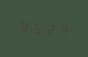eight: (18, 17, 29, 35)
five: (30, 18, 41, 36)
four: (54, 20, 65, 38)
two: (42, 19, 53, 37)
